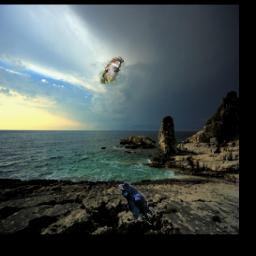Crow: (119, 181, 154, 225)
Sparrow: (101, 57, 125, 84)
